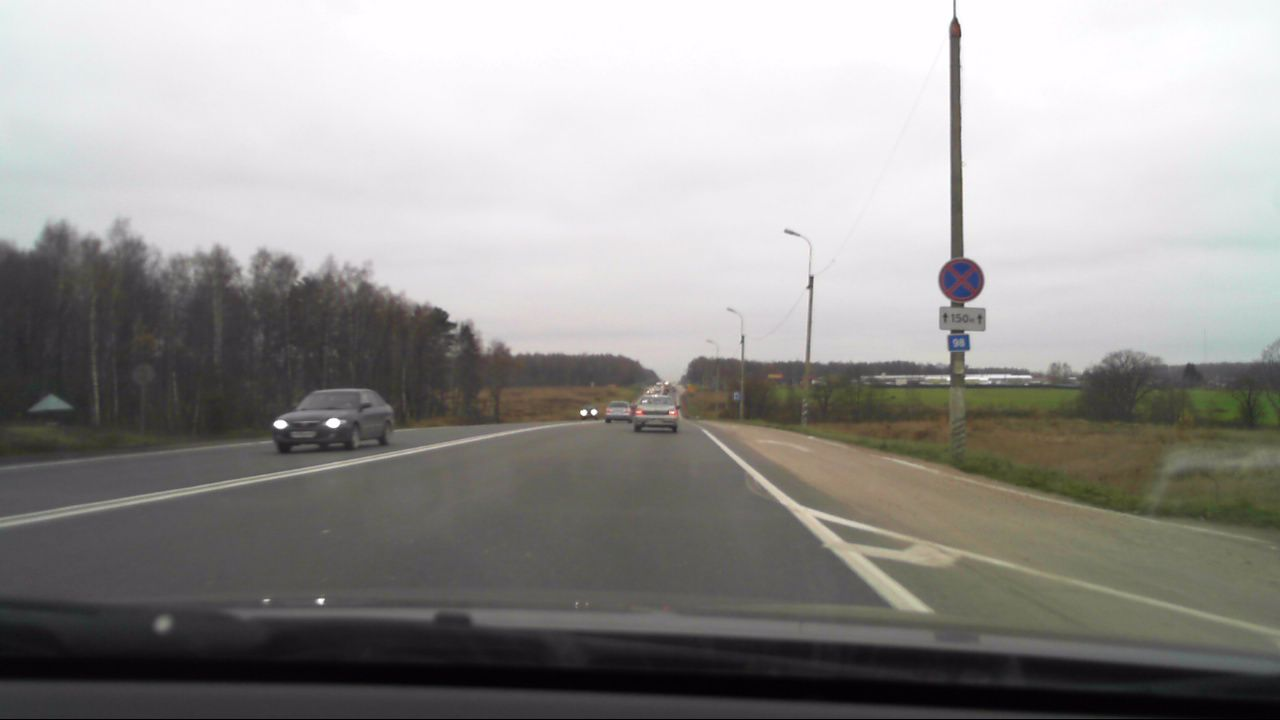No Parking: (940, 256, 986, 303)
